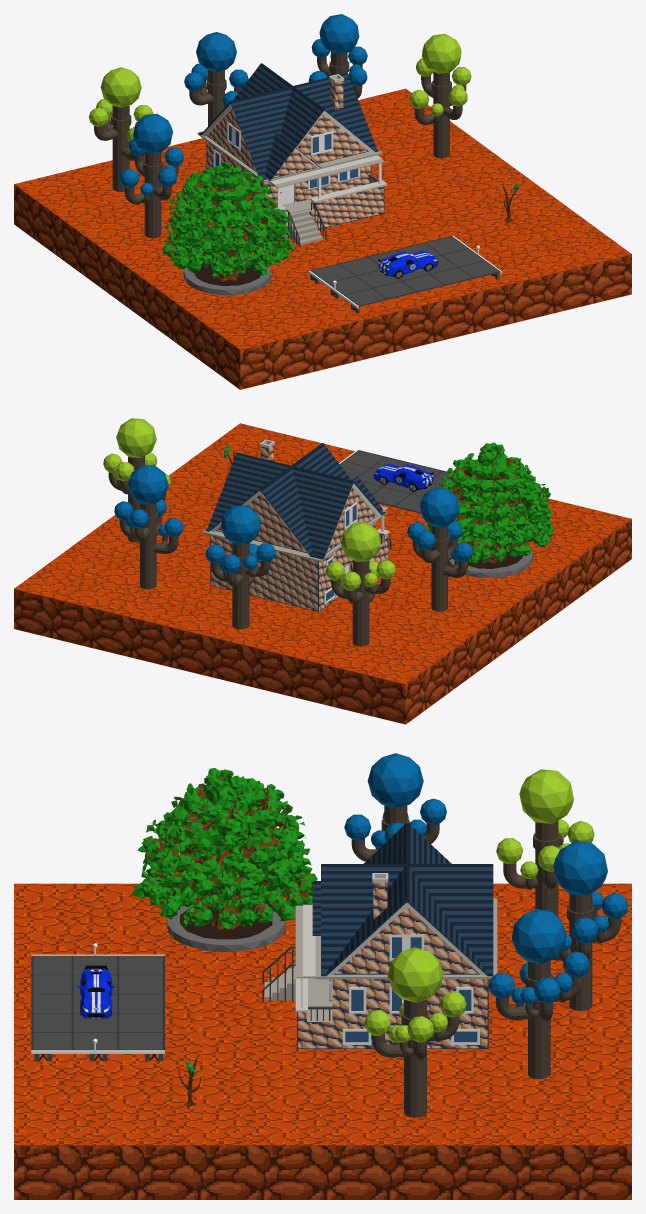
The picture shows the model from 3 angles, top to bottom: view 1: azimuth 30°, elevation 25°; view 2: azimuth 150°, elevation 25°; view 3: azimuth 270°, elevation 25°; orthographic projection. The views are drawn at different scales.
Parts seen in each view (by area): view 1: Cube.001, Cube.430, OBJRANDOM_CEIBA, VEHICLES_RACING_CAR; view 2: Cube.001, Cube.430, OBJRANDOM_CEIBA, VEHICLES_RACING_CAR; view 3: Cube.001, Cube.430, OBJRANDOM_CEIBA, VEHICLES_RACING_CAR.
Boxes of the visible parts, <box> form: Cube.001: <box>14,14,631,389</box>; Cube.430: <box>197,63,387,246</box>; OBJRANDOM_CEIBA: <box>162,161,295,295</box>; VEHICLES_RACING_CAR: <box>378,250,438,278</box>; Cube.001: <box>14,418,631,724</box>; Cube.430: <box>202,439,391,611</box>; OBJRANDOM_CEIBA: <box>427,442,553,577</box>; VEHICLES_RACING_CAR: <box>373,464,433,491</box>; Cube.001: <box>14,753,631,1199</box>; Cube.430: <box>262,823,497,1048</box>; OBJRANDOM_CEIBA: <box>131,768,317,951</box>; VEHICLES_RACING_CAR: <box>77,965,114,1018</box>.
Bounding box in the file's own units: 4000 × 1765 × 4000.
37 materials, 5 textured.
